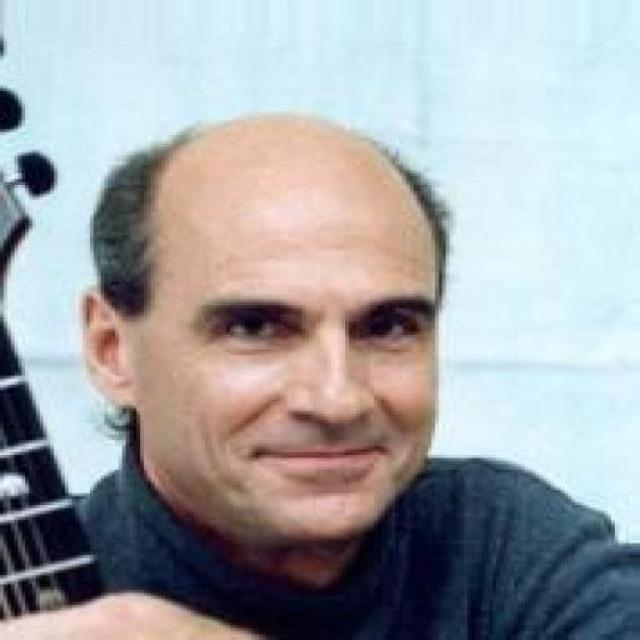bareface: (78, 102, 430, 518)
